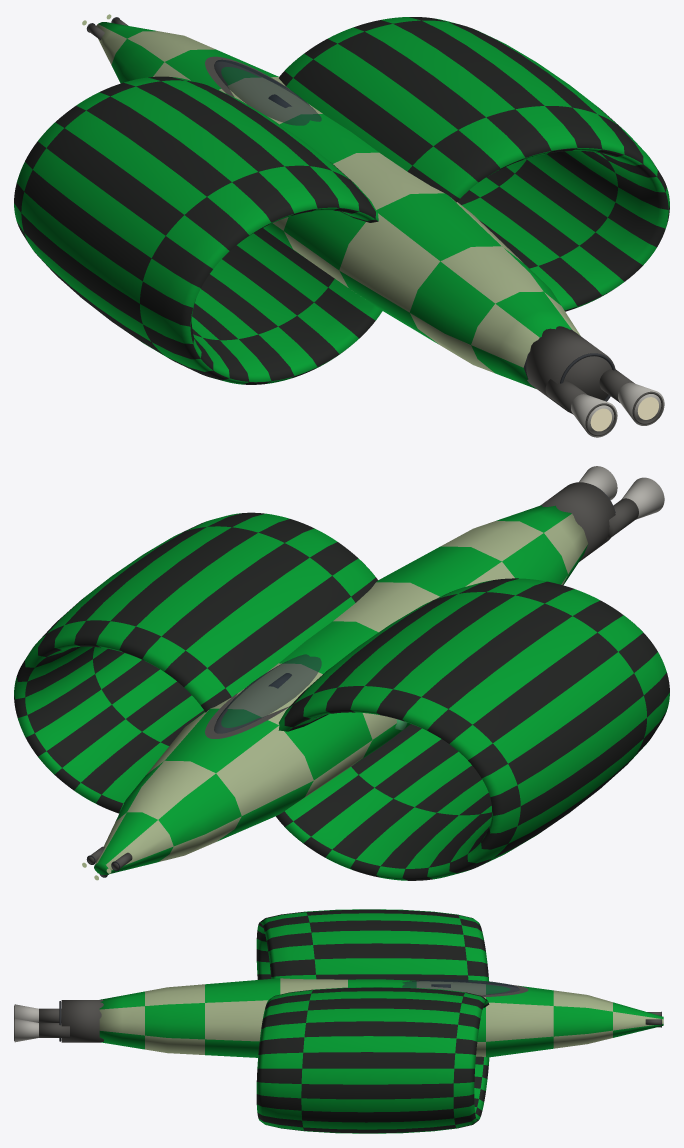
File: Ship_TwoHoop_11695.glb
3 views of the same model, one above another, from view 1: azimuth 30°, elevation 25°; view 2: azimuth 150°, elevation 25°; view 3: azimuth 270°, elevation 25° (orthographic). The views are drawn at different scales.
Parts seen in each view (by area): view 1: Hoop_Left_StructuralRing_YAxisHole_CenterTangent_AftSwept, Hoop_Right_StructuralRing_YAxisHole_CenterTangent_AftSwept, Fuselage_MainCenteredHull_CenterOfMassAtOrigin, EngineBlock_AftHullIntegratedMountPlate, CanopyGlass_LowForwardPodDome, EngineBell_Right_AftHullBurnishedNozzle, EngineBell_Left_AftHullBurnishedNozzle, CanopyFrame_LowInsetOvalRim, EngineEmitter, EngineThroat_Left_AftHullDarkSocket; view 2: Hoop_Left_StructuralRing_YAxisHole_CenterTangent_AftSwept, Hoop_Right_StructuralRing_YAxisHole_CenterTangent_AftSwept, Fuselage_MainCenteredHull_CenterOfMassAtOrigin, CanopyGlass_LowForwardPodDome, EngineBlock_AftHullIntegratedMountPlate, EngineBell_Left_AftHullBurnishedNozzle, CanopyFrame_LowInsetOvalRim, EngineThroat_Left_AftHullDarkSocket, EngineBell_Right_AftHullBurnishedNozzle; view 3: Hoop_Right_StructuralRing_YAxisHole_CenterTangent_AftSwept, Fuselage_MainCenteredHull_CenterOfMassAtOrigin, Hoop_Left_StructuralRing_YAxisHole_CenterTangent_AftSwept, EngineBlock_AftHullIntegratedMountPlate, CanopyGlass_LowForwardPodDome, EngineBell_Right_AftHullBurnishedNozzle, EngineThroat_Right_AftHullDarkSocket, EngineBell_Left_AftHullBurnishedNozzle.
Part boxes in pixels (x1,y1,x2,y2): Hoop_Left_StructuralRing_YAxisHole_CenterTangent_AftSwept: [14, 76, 382, 384]; Hoop_Right_StructuralRing_YAxisHole_CenterTangent_AftSwept: [279, 17, 669, 311]; Fuselage_MainCenteredHull_CenterOfMassAtOrigin: [96, 22, 580, 388]; EngineBlock_AftHullIntegratedMountPlate: [526, 326, 615, 412]; CanopyGlass_LowForwardPodDome: [214, 59, 321, 125]; EngineBell_Right_AftHullBurnishedNozzle: [618, 382, 664, 425]; EngineBell_Left_AftHullBurnishedNozzle: [571, 394, 617, 437]; CanopyFrame_LowInsetOvalRim: [205, 56, 289, 97]; EngineEmitter: [590, 397, 658, 431]; EngineThroat_Left_AftHullDarkSocket: [545, 379, 587, 414]; Hoop_Left_StructuralRing_YAxisHole_CenterTangent_AftSwept: [276, 578, 669, 880]; Hoop_Right_StructuralRing_YAxisHole_CenterTangent_AftSwept: [14, 512, 377, 813]; Fuselage_MainCenteredHull_CenterOfMassAtOrigin: [94, 505, 587, 874]; CanopyGlass_LowForwardPodDome: [214, 654, 321, 733]; EngineBlock_AftHullIntegratedMountPlate: [540, 482, 615, 561]; EngineBell_Left_AftHullBurnishedNozzle: [621, 477, 664, 519]; CanopyFrame_LowInsetOvalRim: [205, 693, 289, 738]; EngineThroat_Left_AftHullDarkSocket: [606, 498, 638, 539]; EngineBell_Right_AftHullBurnishedNozzle: [579, 466, 617, 500]; Hoop_Right_StructuralRing_YAxisHole_CenterTangent_AftSwept: [256, 987, 489, 1133]; Fuselage_MainCenteredHull_CenterOfMassAtOrigin: [99, 978, 663, 1057]; Hoop_Left_StructuralRing_YAxisHole_CenterTangent_AftSwept: [256, 909, 488, 981]; EngineBlock_AftHullIntegratedMountPlate: [61, 1000, 103, 1042]; CanopyGlass_LowForwardPodDome: [402, 979, 519, 995]; EngineBell_Right_AftHullBurnishedNozzle: [14, 1018, 38, 1042]; EngineThroat_Right_AftHullDarkSocket: [39, 1023, 69, 1037]; EngineBell_Left_AftHullBurnishedNozzle: [14, 1004, 38, 1022].
Bounding box in the file's own units: 4.14 × 1.54 × 7.36.
